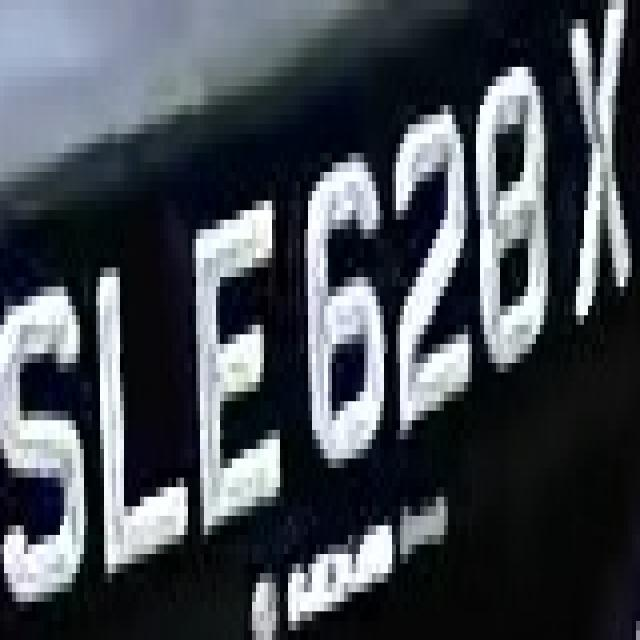2: (376, 86, 480, 449)
6: (292, 124, 392, 487)
8: (464, 38, 560, 401)
E: (180, 182, 292, 554)
L: (80, 210, 192, 583)
S: (0, 4, 1, 10)
X: (552, 0, 640, 334)
